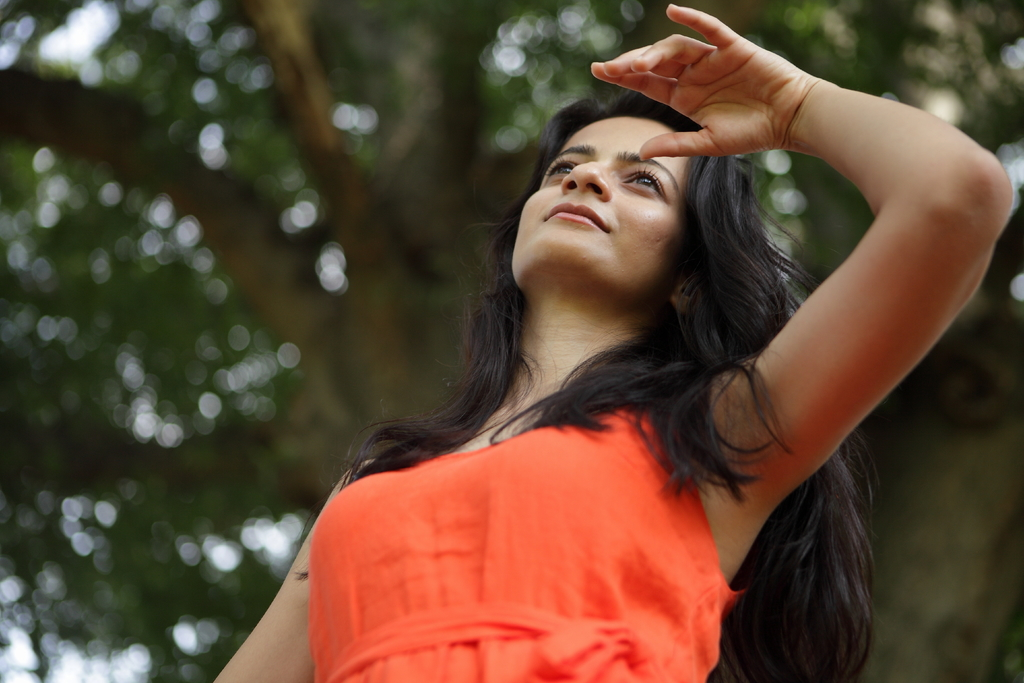Human_hand: (589, 17, 792, 144)
